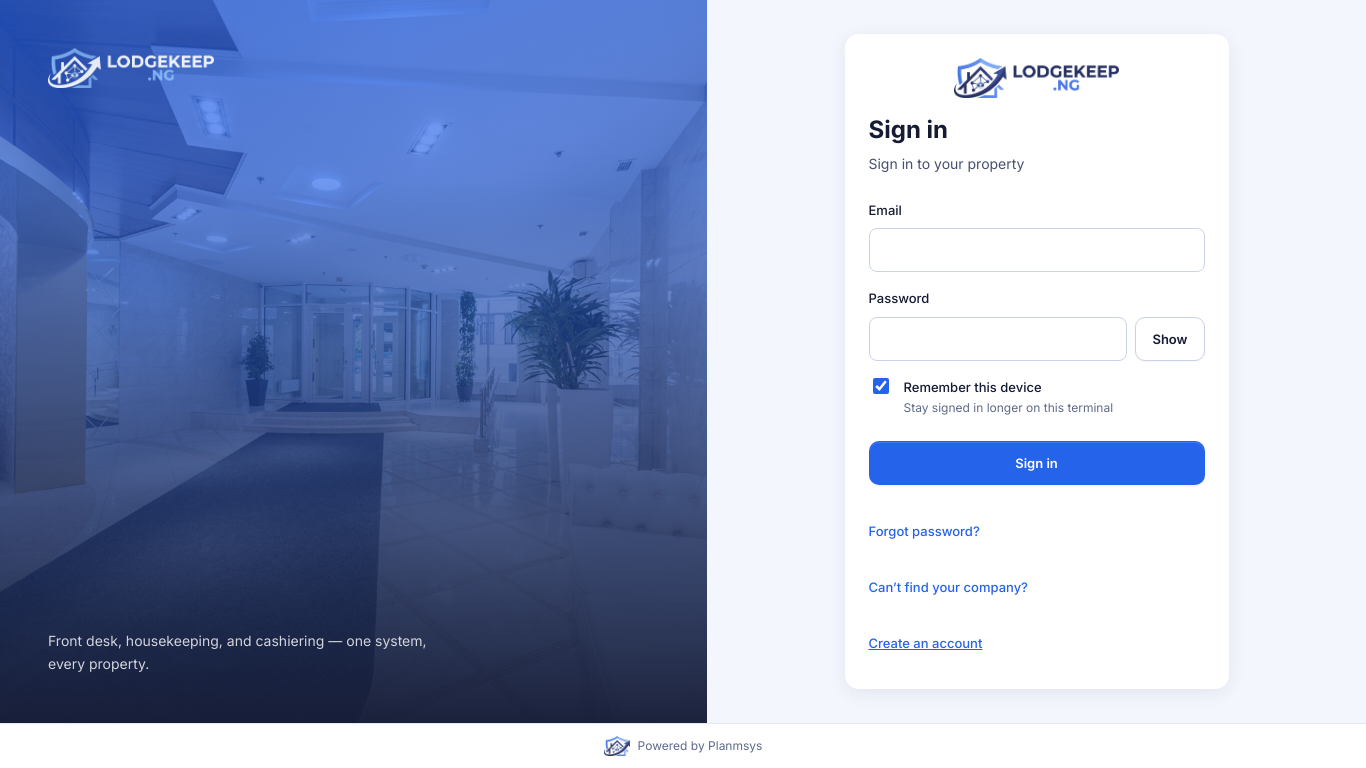
Scenario: <StaffLoginScreen> › shows a distinct lockout message for LOCKED_ACCOUNT, not the raw backend string
Type "a@b.com" into the field labelled "Email" at coordinates (1036, 250), box [868,228,1204,272]
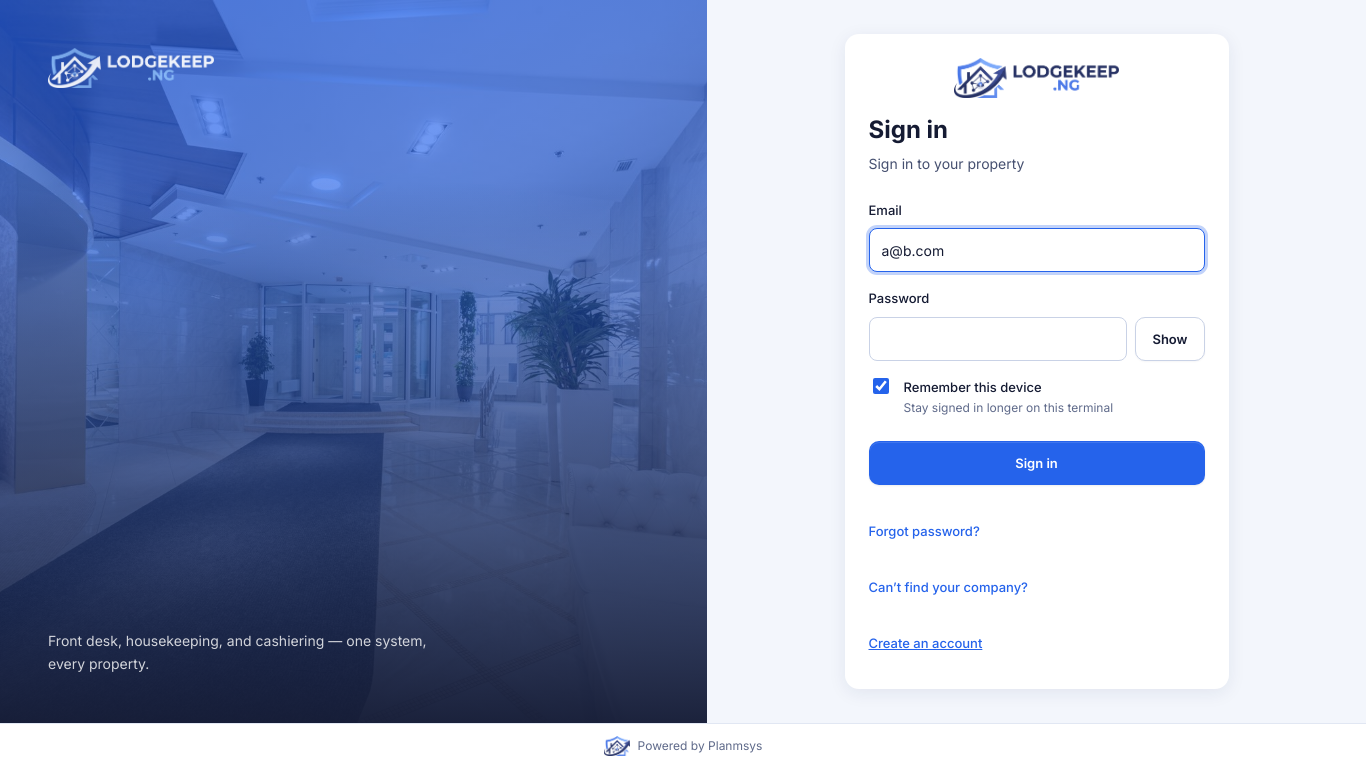
Type "password12345" into the password field labelled "Password" at coordinates (998, 339), box [868,317,1128,361]
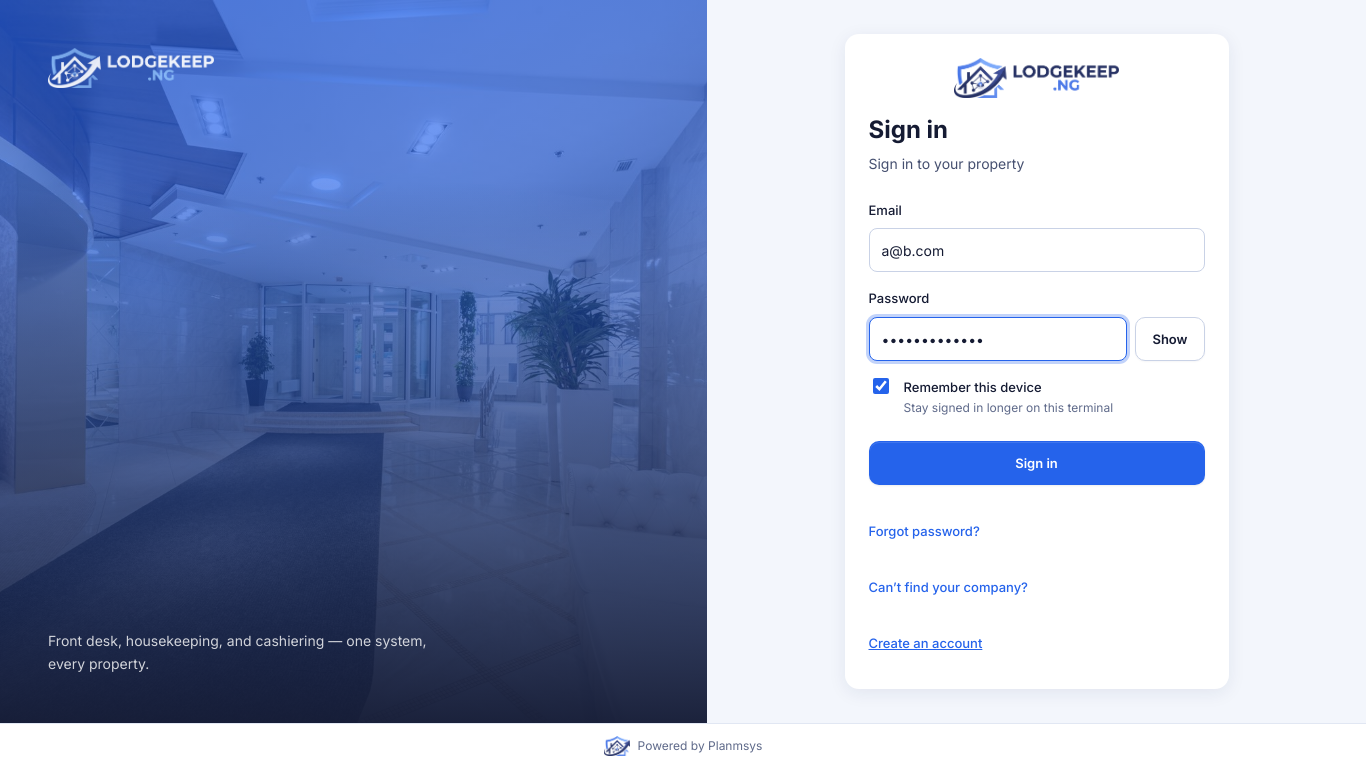
Click the button "Sign in" at coordinates (1036, 463), box [868,441,1204,485]
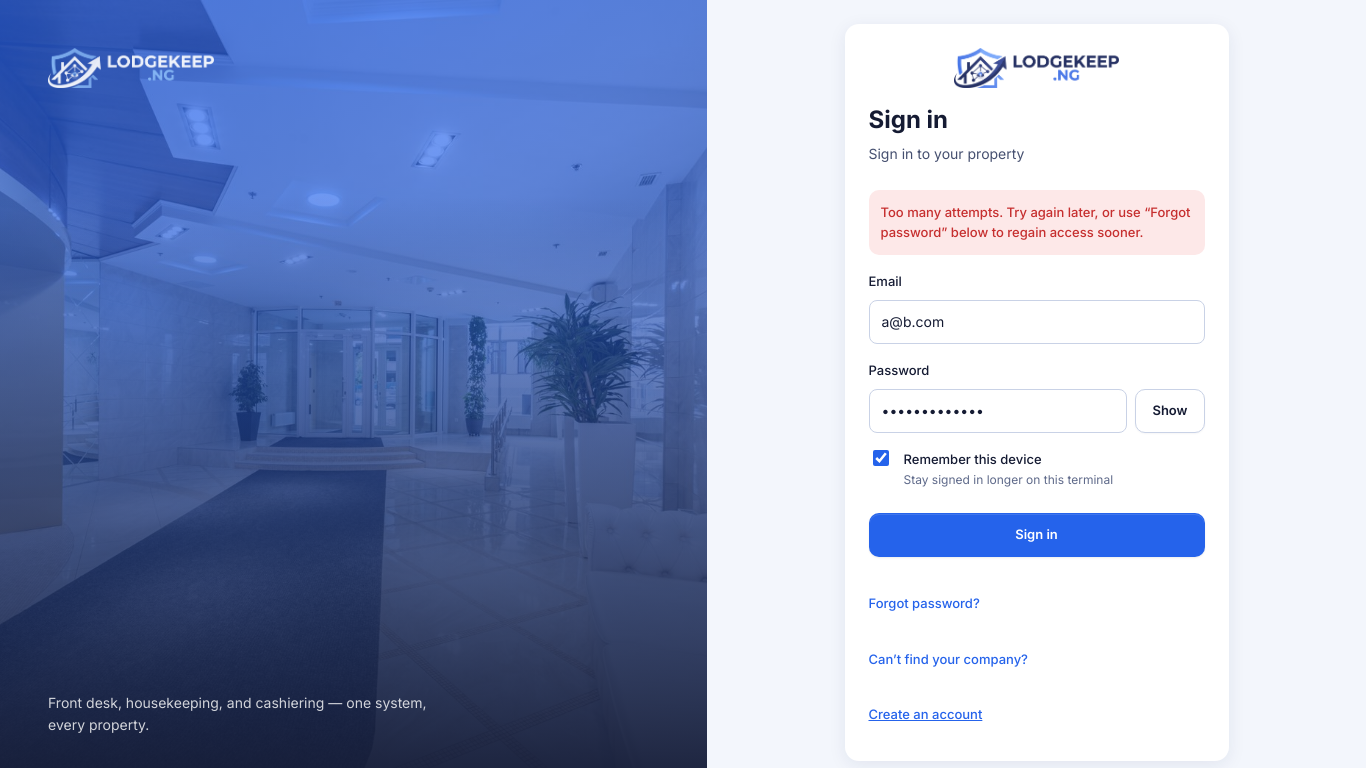
Check: the message shows "Too many attempts", box [880,204,1190,240]
Check: the message shows "Forgot password", box [880,204,1190,240]
